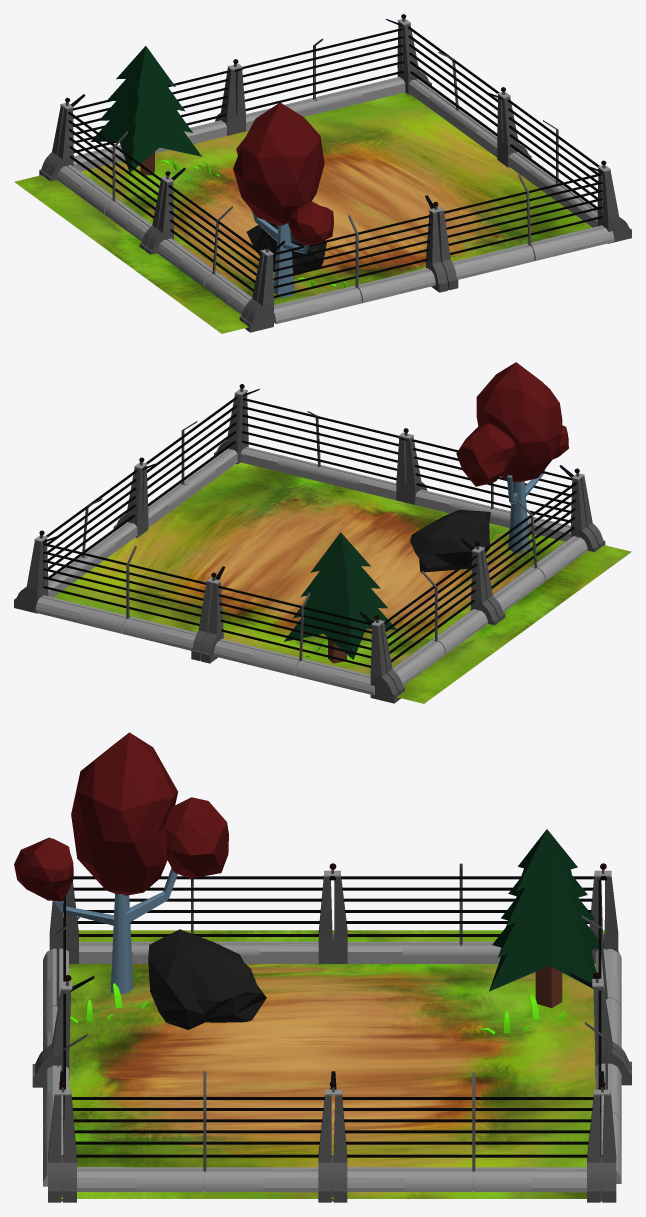
File: Cage_2.fbx
The picture shows the model from 3 angles, top to bottom: view 1: azimuth 30°, elevation 25°; view 2: azimuth 150°, elevation 25°; view 3: azimuth 270°, elevation 25°; orthographic projection. The views are drawn at different scales.
Visible parts, largest first — view 1: Cage_2; view 2: Cage_2; view 3: Cage_2.
Part boxes in pixels (left/top/right/bottom): Cage_2: left=14, top=14, right=631, bottom=333; Cage_2: left=14, top=362, right=631, bottom=703; Cage_2: left=14, top=732, right=631, bottom=1202.
Size of the model in its own units: 23.88 by 11.71 by 23.2.
